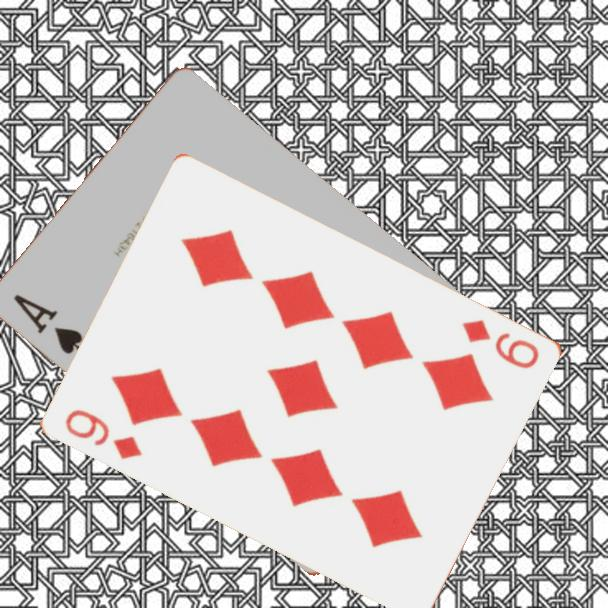d09: (459, 315, 543, 372), (62, 405, 146, 462)
s01: (10, 290, 88, 358)
